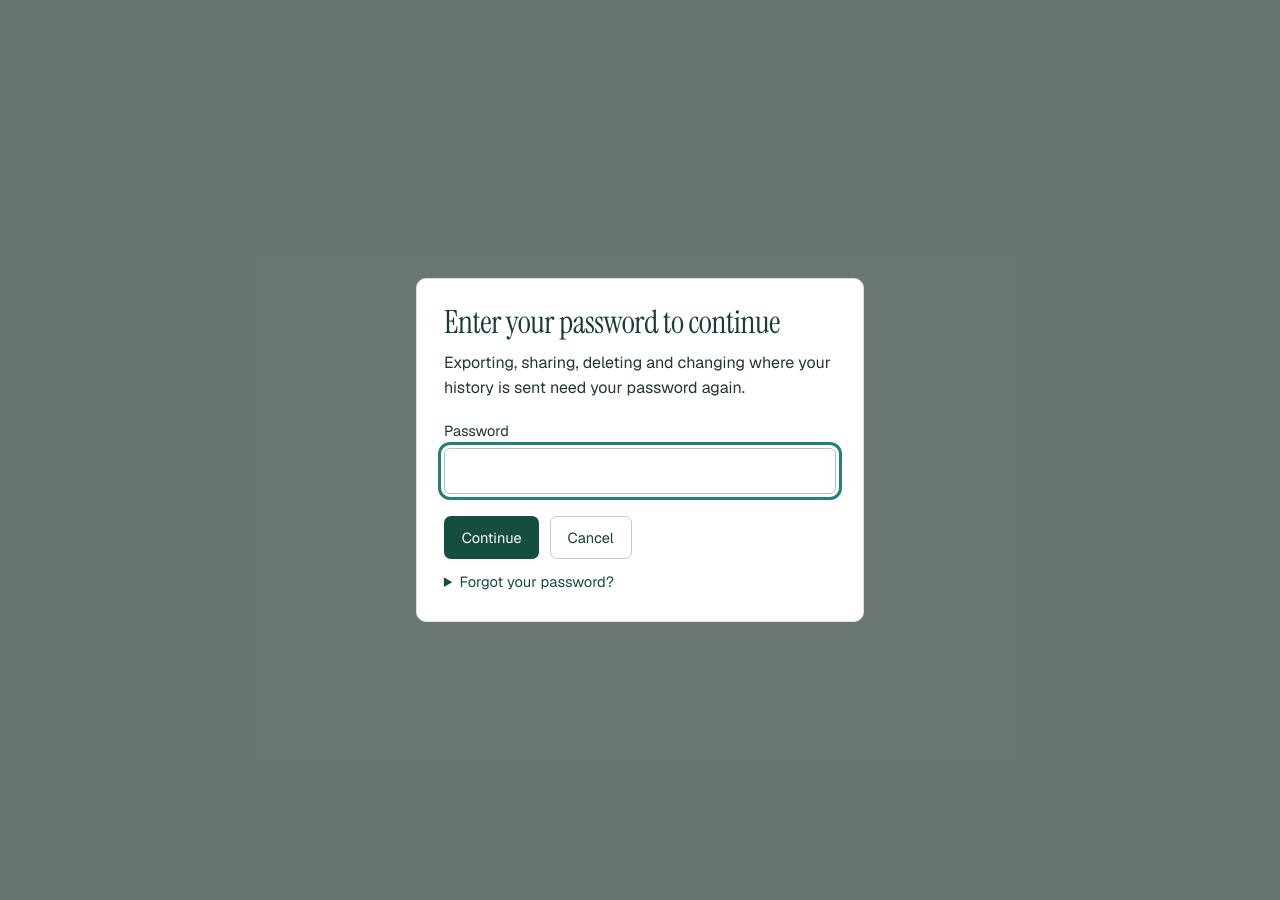
Test: ReauthDialog › says the password did not match only for a wrong password
The image size is (1280, 900).
Type "synthetic password" into the password field labelled "Password".
click(640, 471); type("synthetic password")  # box x1=444 y1=448 x2=836 y2=494
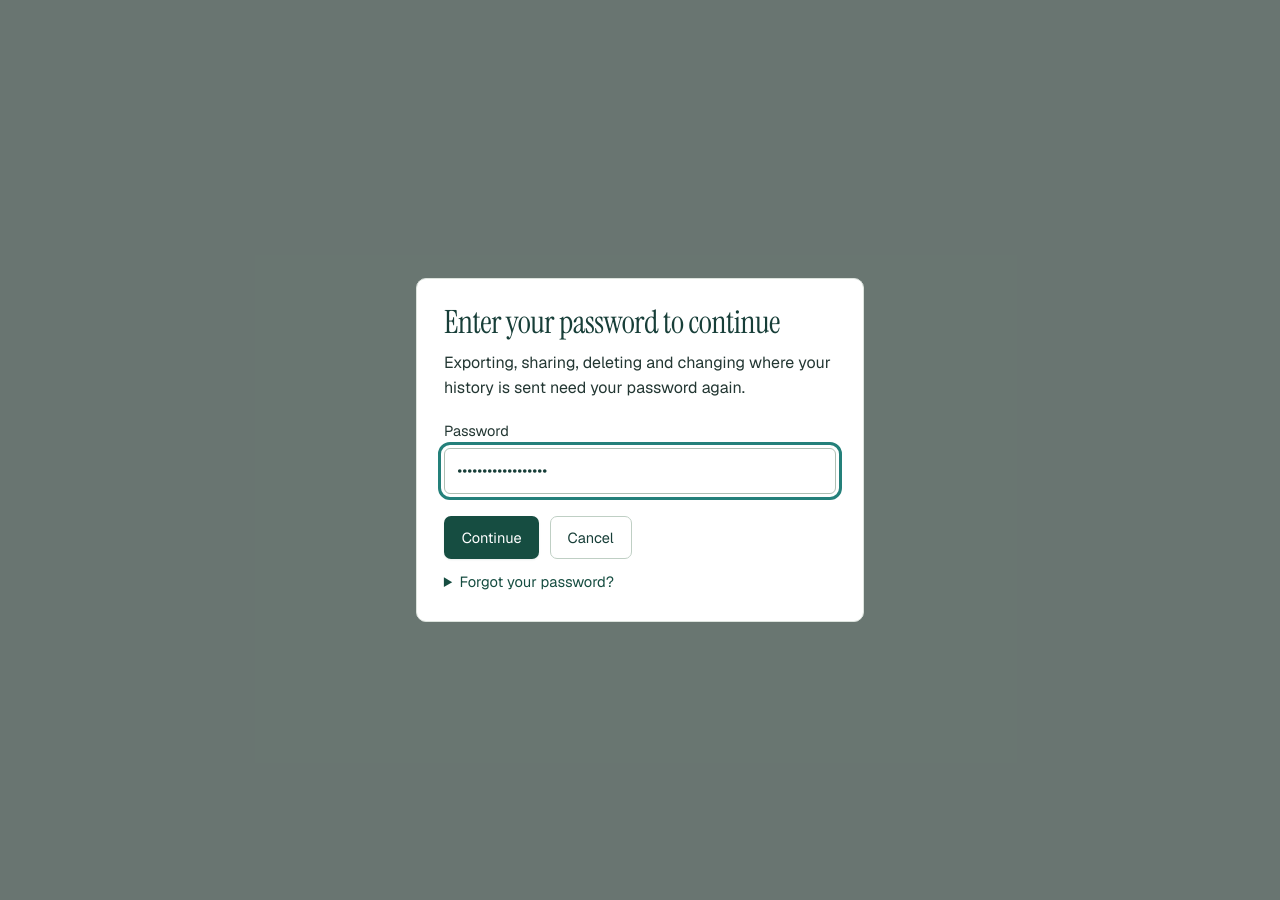
Click the button "Continue".
click(492, 538)  # box x1=444 y1=516 x2=539 y2=560
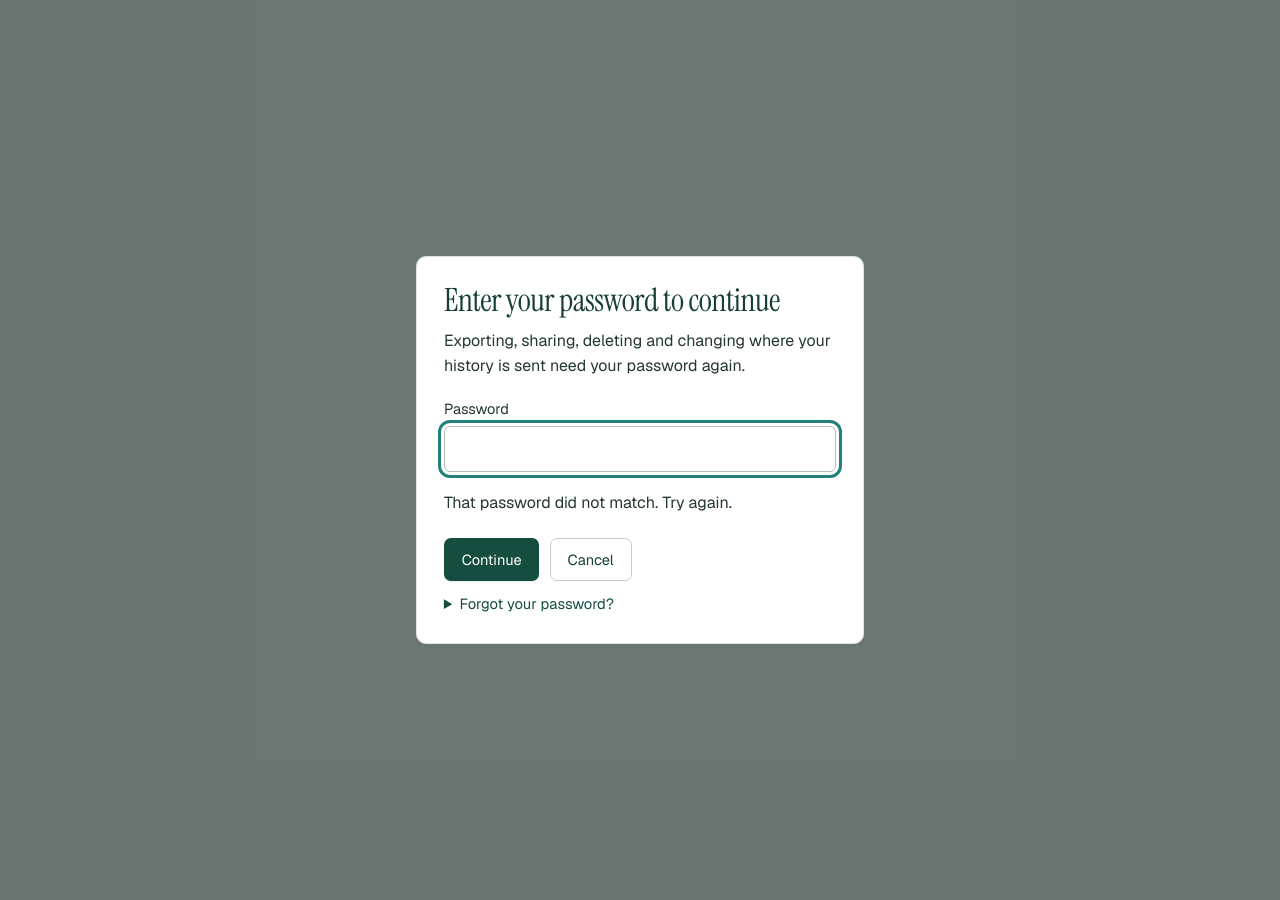
Result: the message reads "That password did not match. Try again." at x1=444 y1=492 x2=732 y2=513
